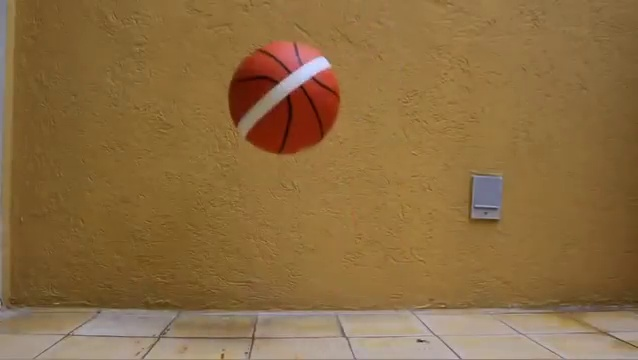ball: (226, 39, 343, 153)
